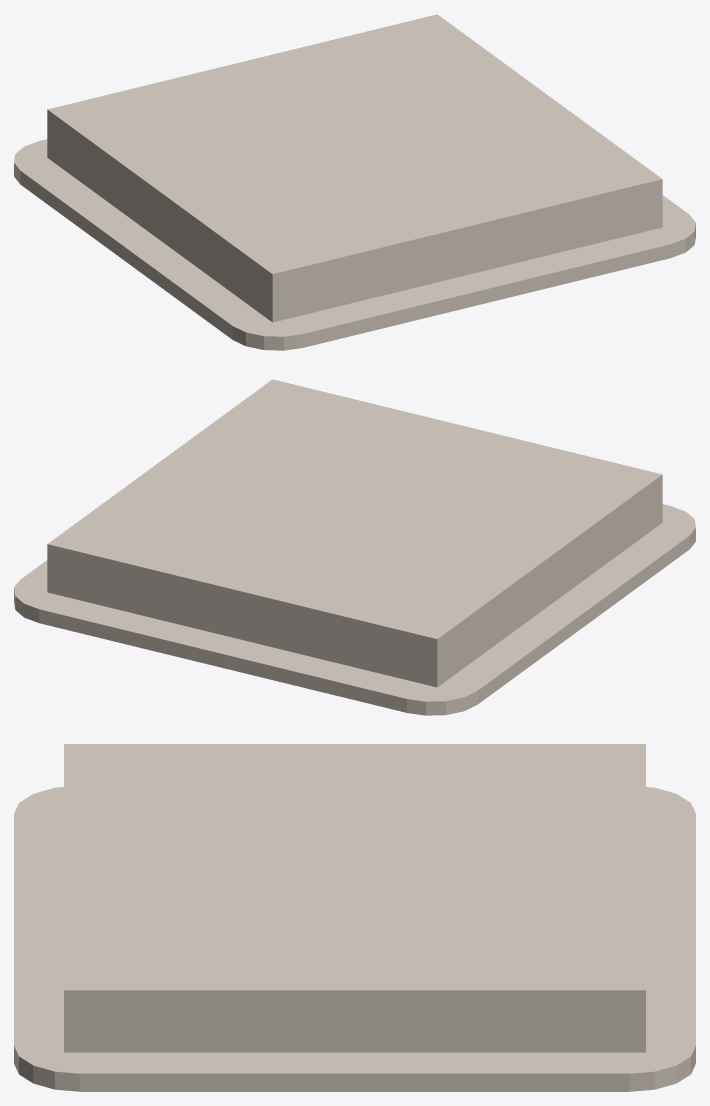
Rendered from Ceiling_Lamp.fbx.
The picture shows the model from 3 angles, top to bottom: view 1: azimuth 30°, elevation 25°; view 2: azimuth 150°, elevation 25°; view 3: azimuth 270°, elevation 25°; orthographic projection. The views are drawn at different scales.
Visible parts, largest first — view 1: Lamp; view 2: Lamp; view 3: Lamp.
Boxes of the visible parts, left/top/right/bottom form: Lamp: left=14, top=14, right=695, bottom=350; Lamp: left=14, top=379, right=695, bottom=715; Lamp: left=14, top=744, right=695, bottom=1091.
Bounding box in the file's own units: 14 × 1.82 × 14.
